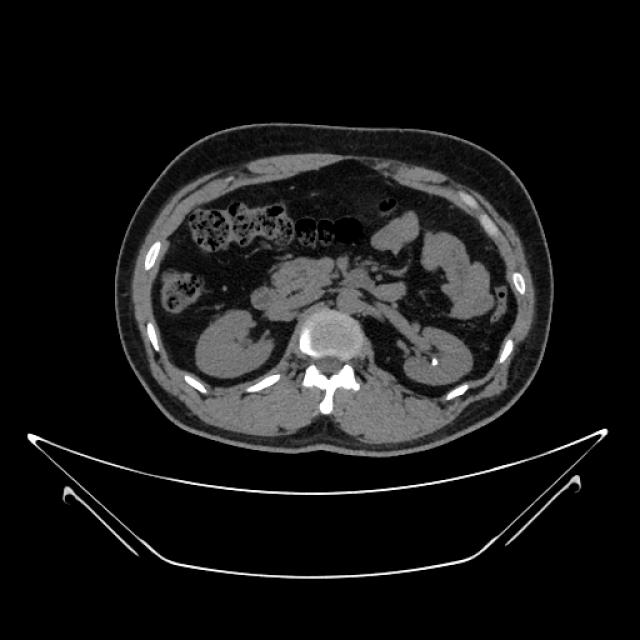kidneystone: (431, 358, 438, 366)
